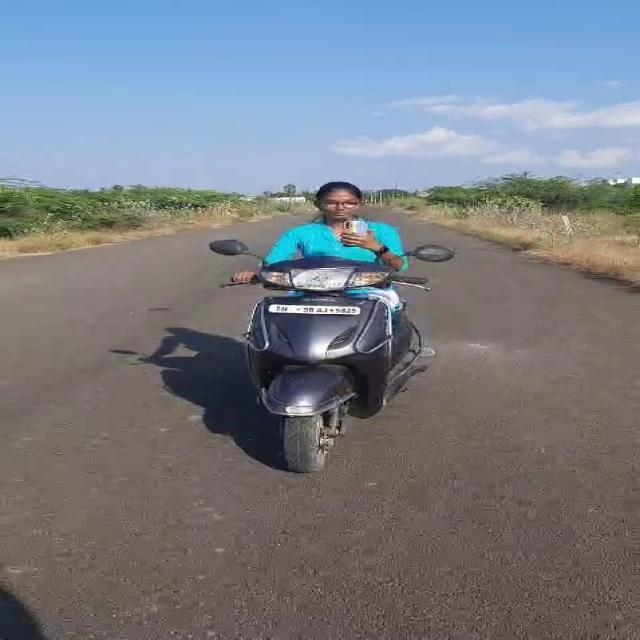USING_MOBILE: (310, 180, 400, 256)
